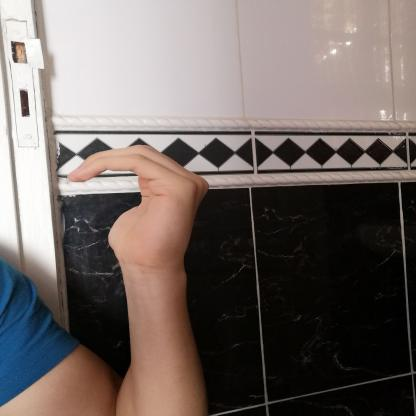HAA: (52, 136, 229, 278)
